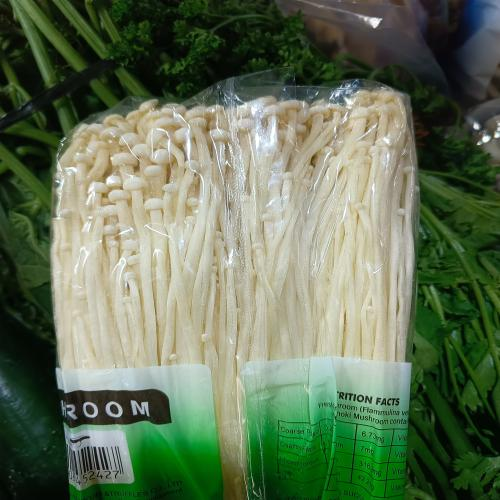Enoki Mushroom: (51, 71, 419, 500)
